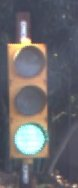Green: (1, 26, 52, 159)
